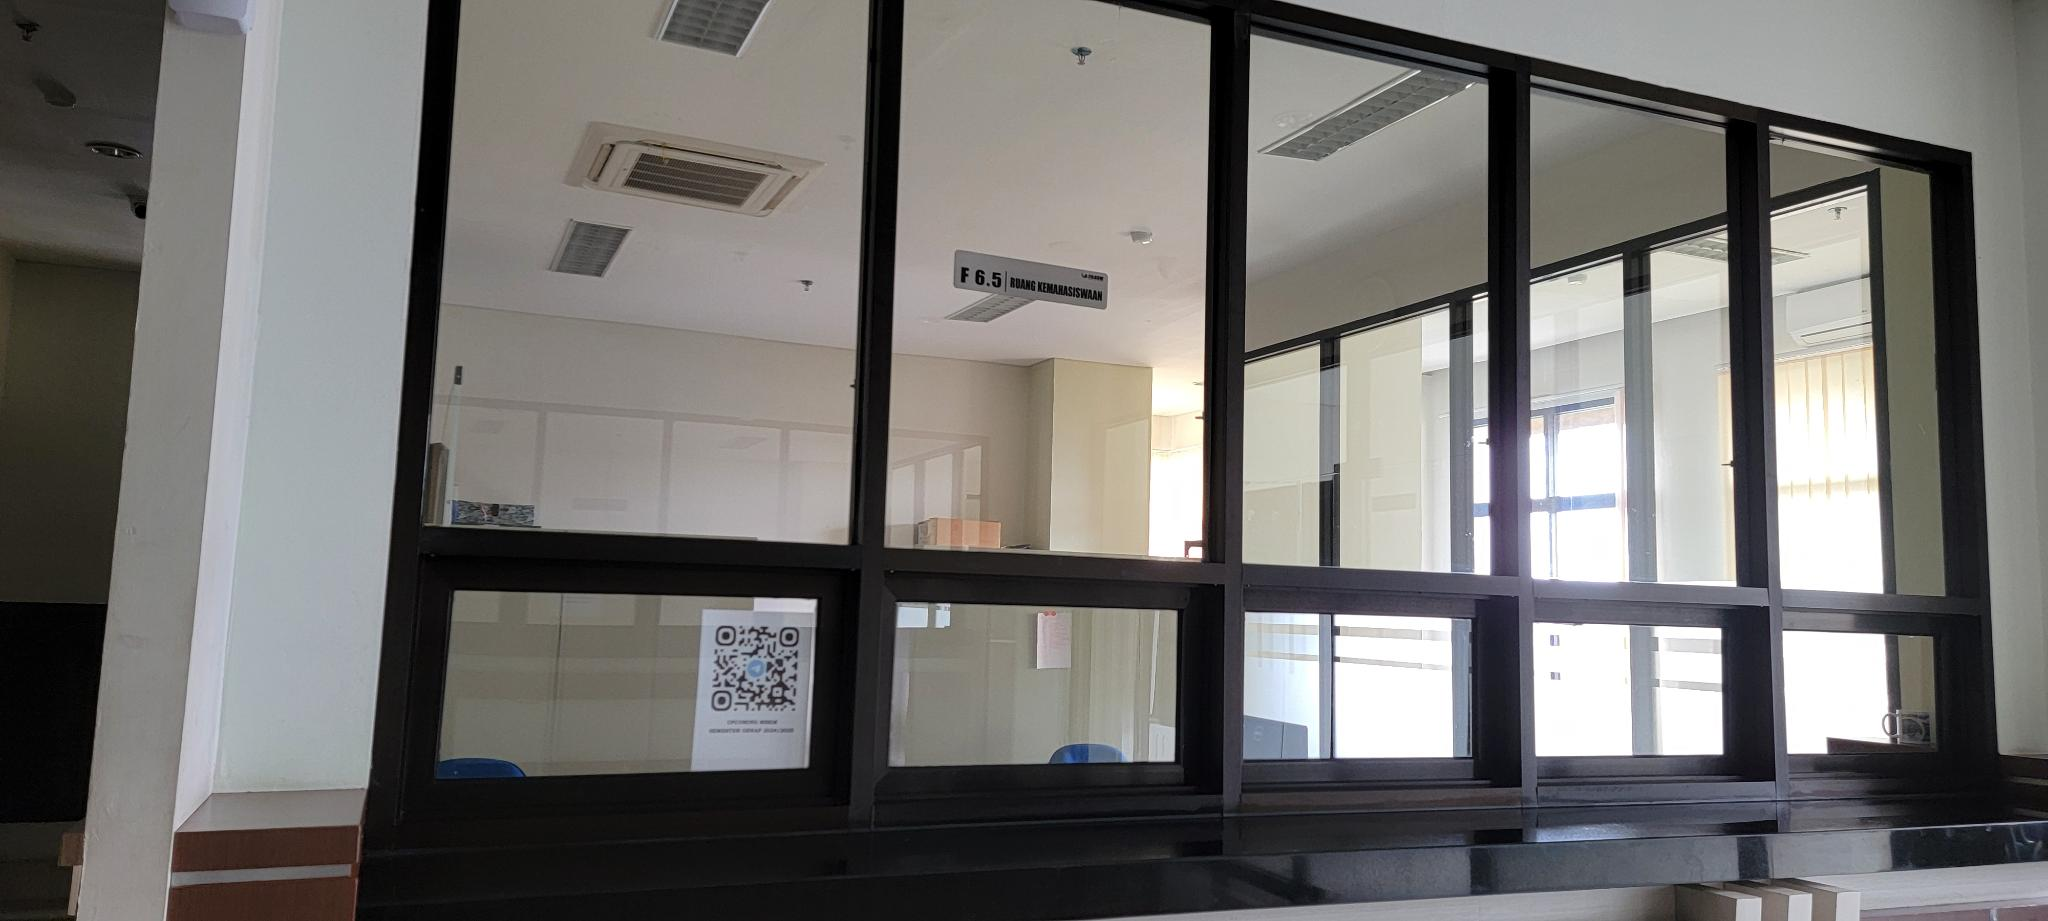plate: (953, 250, 1108, 311)
